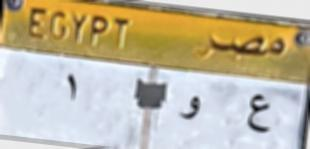ain: (247, 88, 272, 137)
waw: (60, 70, 83, 106), (178, 94, 204, 122)
